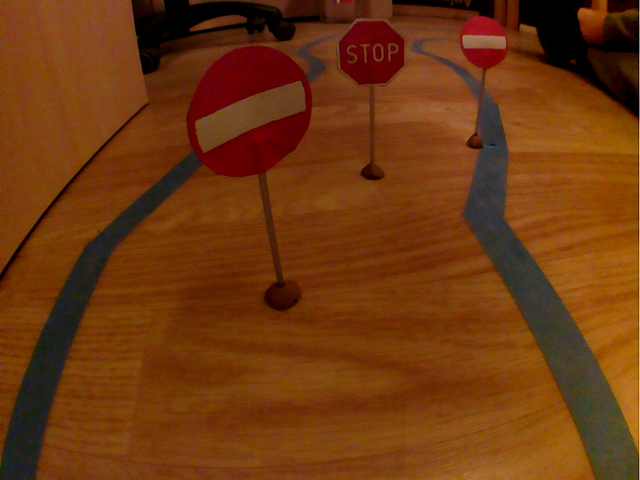Stop: (331, 12, 410, 91)
Zakaz: (182, 40, 321, 182), (453, 13, 513, 73)
